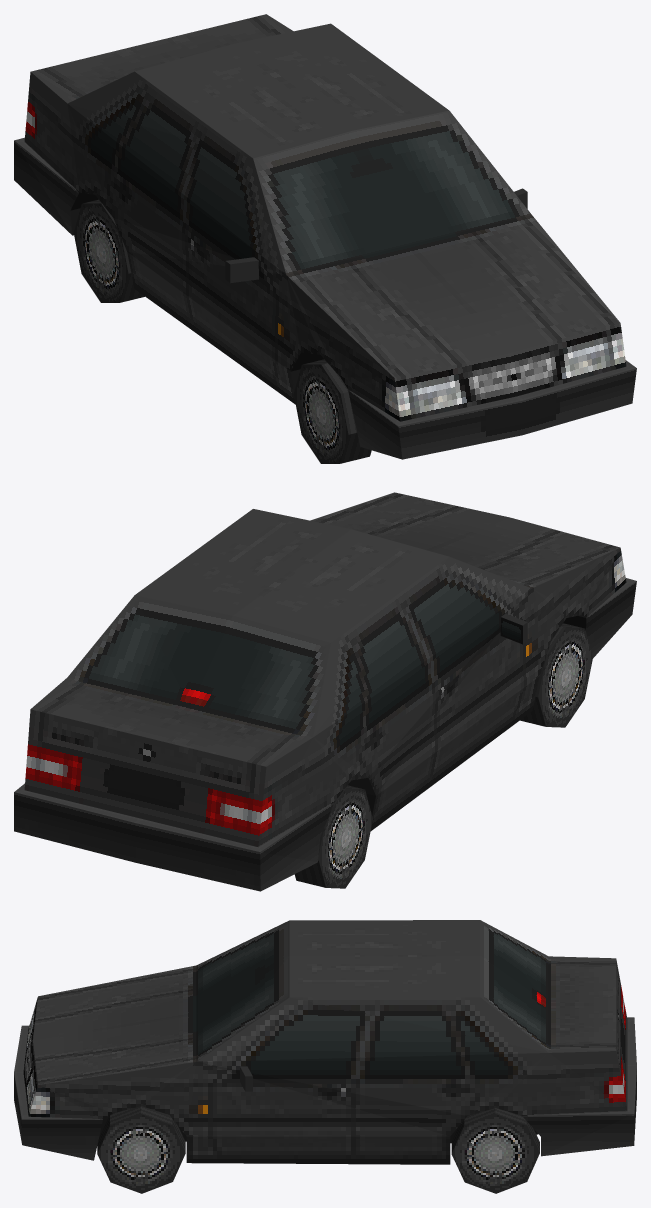
File: CarBlack.glb
3 views of the same model, one above another, from view 1: azimuth 30°, elevation 25°; view 2: azimuth 150°, elevation 25°; view 3: azimuth 270°, elevation 25° (orthographic). The views are drawn at different scales.
Parts seen in each view (by area): view 1: Car2; view 2: Car2; view 3: Car2.
Boxes of the visible parts, bbox=[...] form: Car2: bbox=[14, 14, 636, 463]; Car2: bbox=[14, 492, 636, 891]; Car2: bbox=[14, 920, 636, 1193].
Bounding box in the file's own units: 2.9 × 2.2 × 6.53.
Materials: 1 (1 with a texture image).
